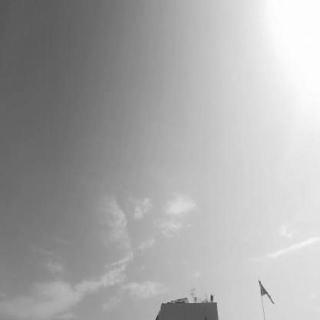other: (268, 0, 316, 129)
